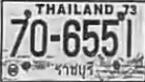0: (30, 18, 47, 56)
1: (126, 18, 131, 57)
5: (101, 18, 119, 57), (82, 18, 99, 57)
6: (62, 18, 79, 56)
7: (10, 17, 29, 56)
RBR: (53, 60, 95, 79)
